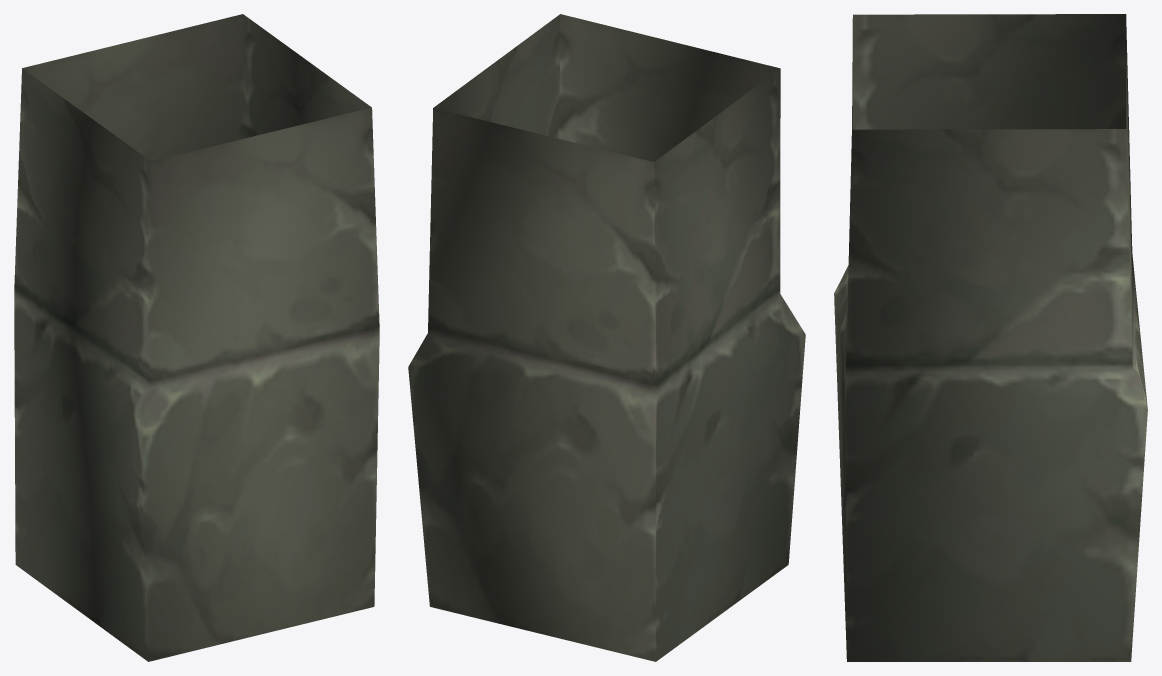
The model's file is yw_shanlin_peristele_002.FBX.
The picture shows the model from 3 angles, left to right: view 1: azimuth 30°, elevation 25°; view 2: azimuth 150°, elevation 25°; view 3: azimuth 270°, elevation 25°; orthographic projection. The views are drawn at different scales.
Visible parts, largest first — view 1: yw_shanlin_peristele_002; view 2: yw_shanlin_peristele_002; view 3: yw_shanlin_peristele_002.
Boxes of the visible parts, <box> form: yw_shanlin_peristele_002: <box>14,14,379,661</box>; yw_shanlin_peristele_002: <box>408,14,805,661</box>; yw_shanlin_peristele_002: <box>834,14,1147,661</box>.
Size of the model in its own units: 148 by 150 by 280.
